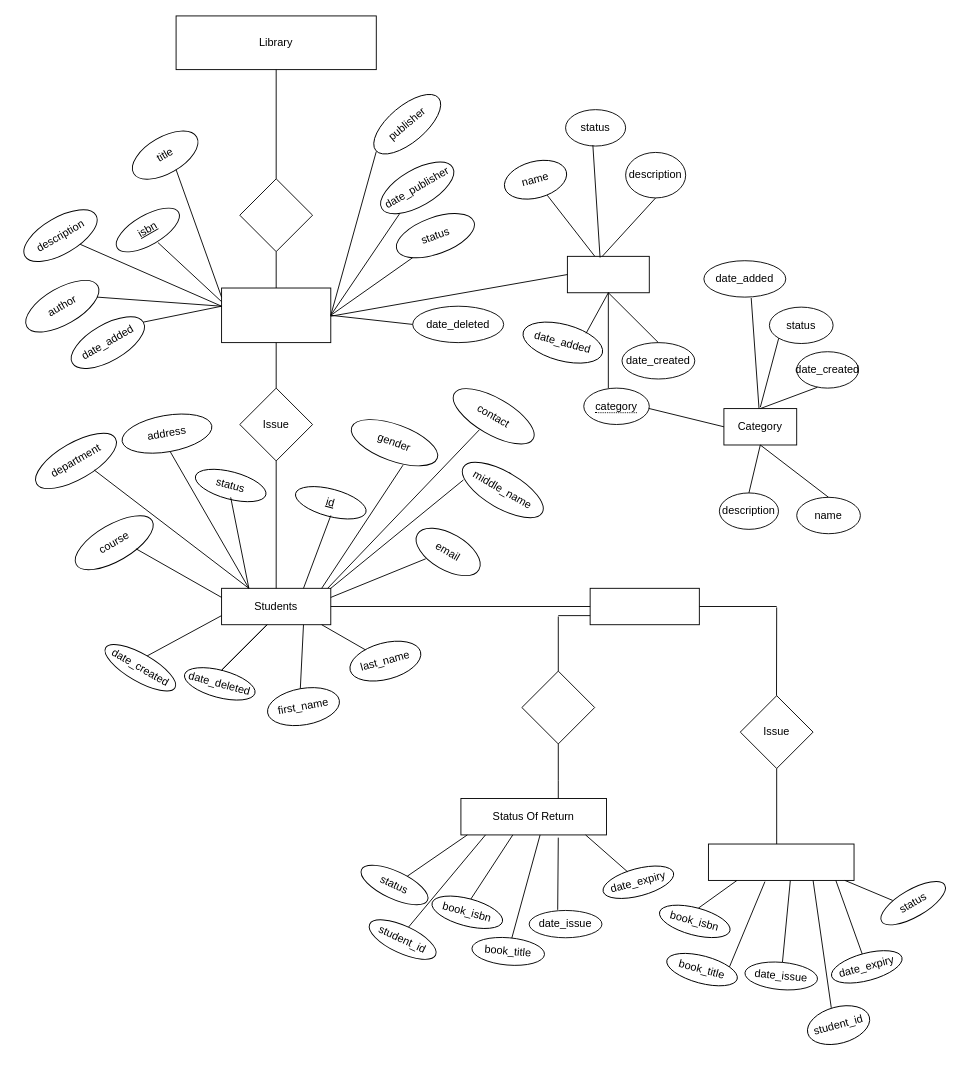
This 968x1067 diagram has some shape labels left out. The shapes that lost their labels are listed below. From the top down, each one's box as (x1, y1, x2, y2) in pixels, then its label:
(239, 178, 313, 252): Contains
(566, 255, 649, 293): SubCategory
(221, 287, 331, 343): Books
(589, 587, 699, 625): Borrow
(521, 670, 595, 744): Return
(708, 843, 854, 880): Status Of Issue
